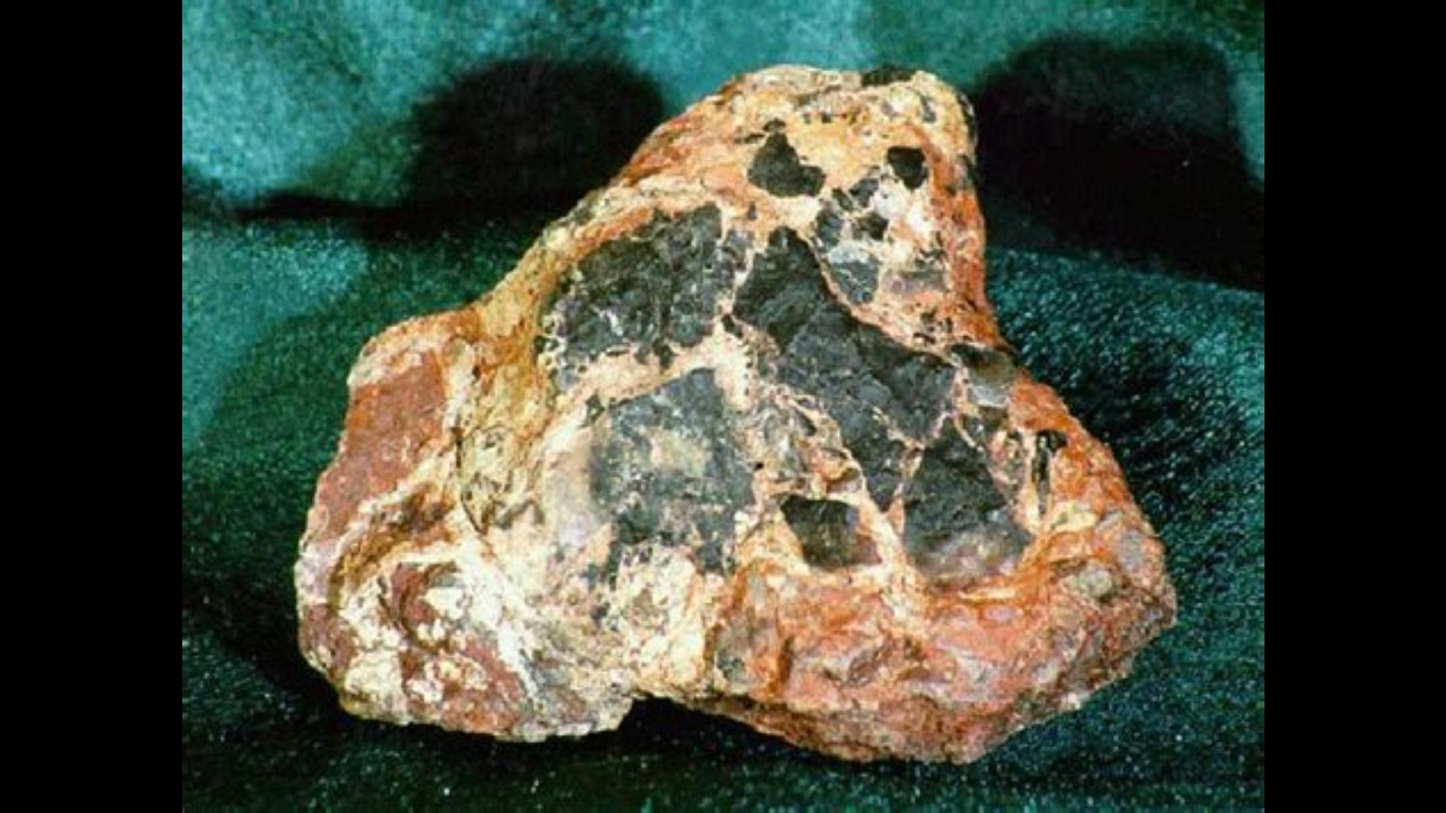rock: (298, 66, 1173, 760)
